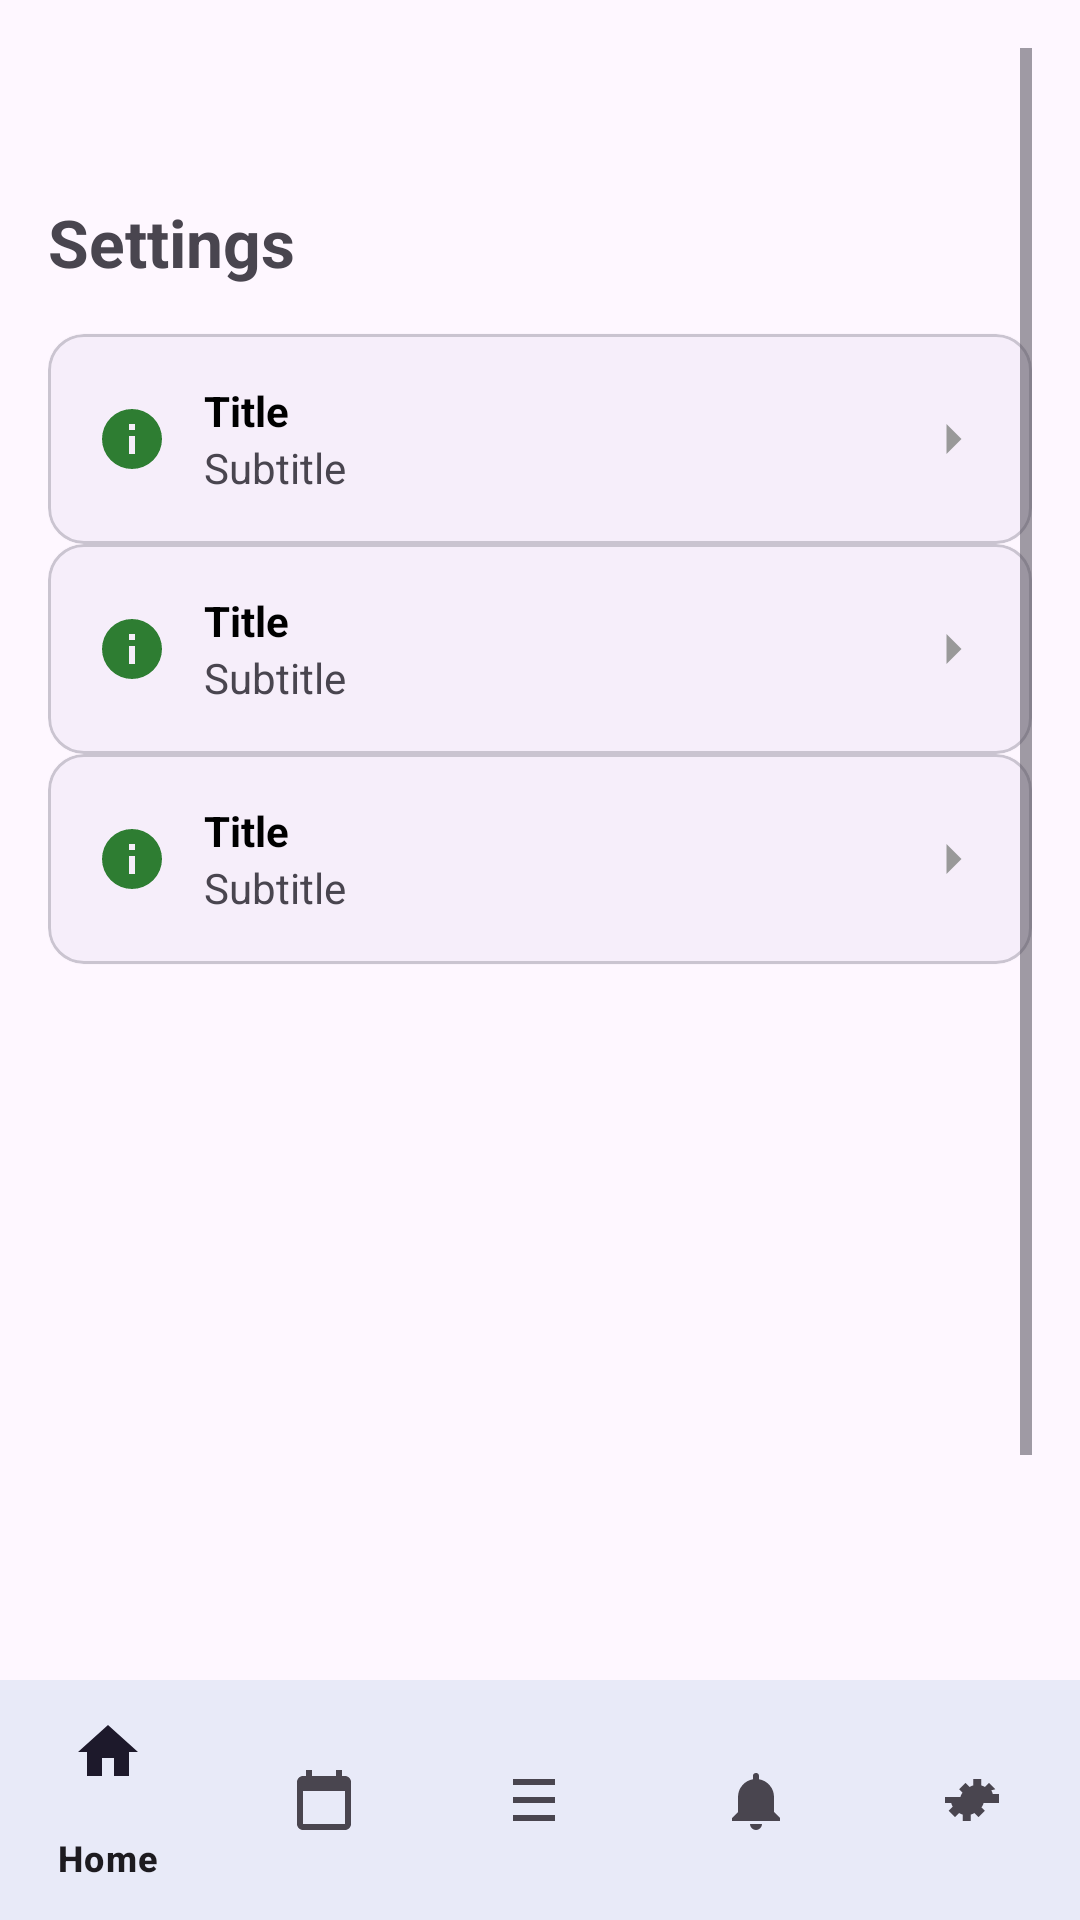

Screen size 1080w x 1920h. Icon name, then its box in pixels as box=[x1, y1, x2, y2]:
chevron right: box=[946, 424, 961, 454], box=[946, 634, 961, 664], box=[946, 844, 961, 874]
info: box=[102, 409, 162, 469], box=[102, 619, 162, 679], box=[102, 829, 162, 889]
